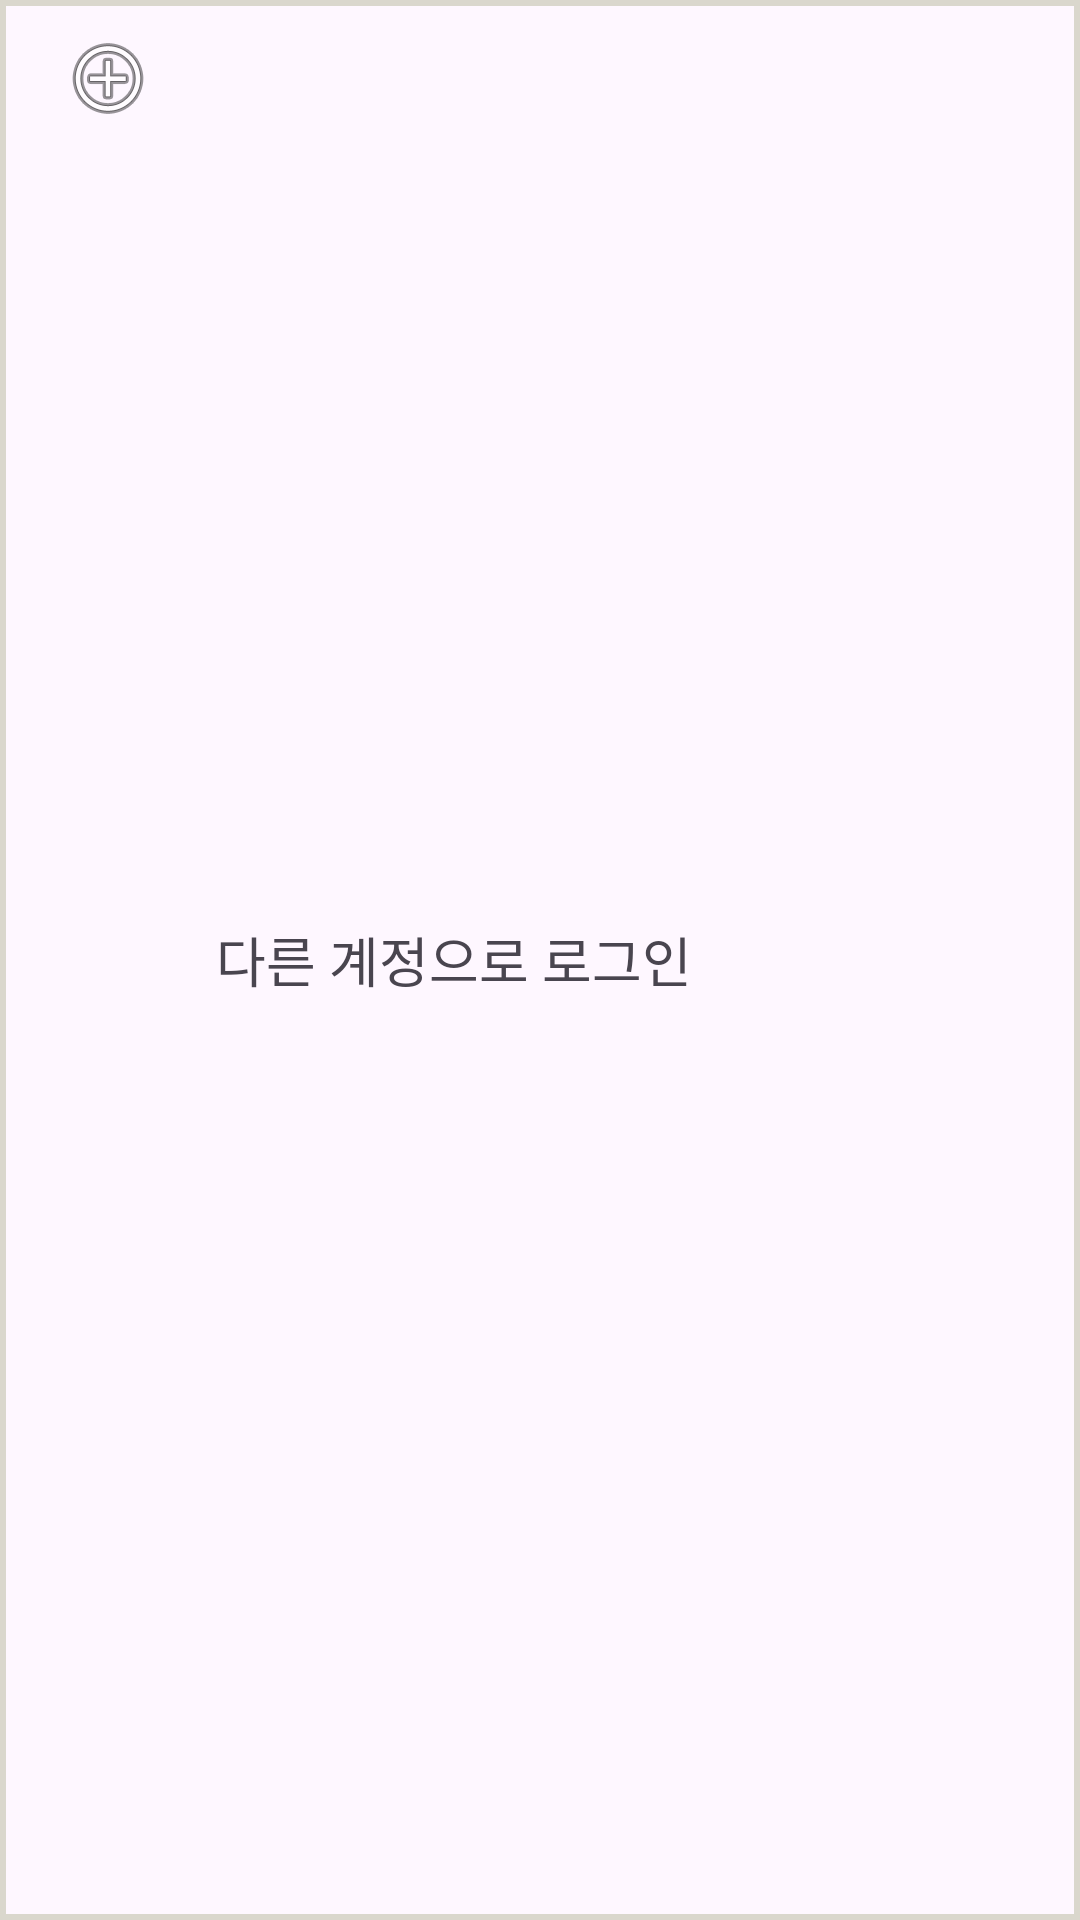

Screen size 1080px×1920px. Icon name, then its box in pixels as (x1, y1, x2, y2):
add: (72, 43, 144, 114)
